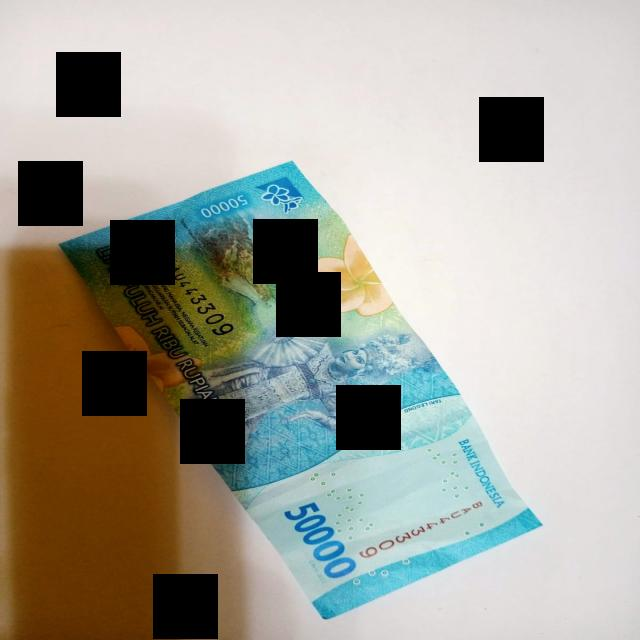lima puluh ribu rupiah: (62, 162, 540, 619)
